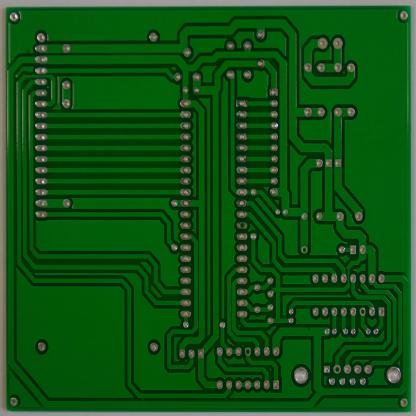missing_hole: (332, 363, 342, 375), (243, 345, 252, 358), (299, 245, 310, 255), (237, 219, 247, 230), (358, 306, 367, 317)
